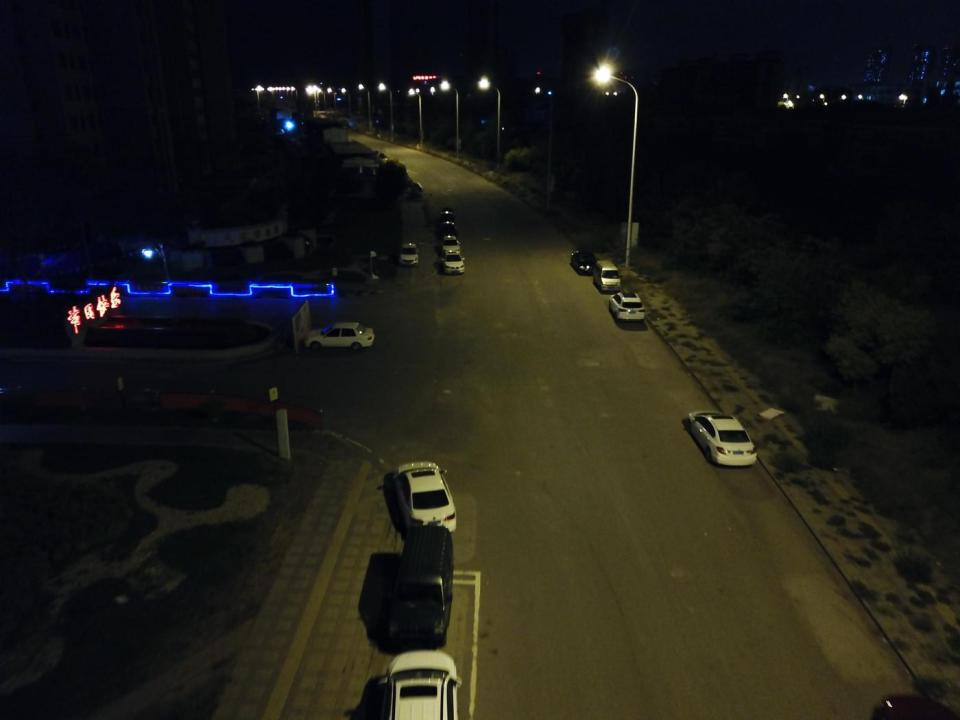car: (376, 649, 461, 720), (394, 461, 458, 535), (687, 411, 758, 467), (303, 321, 374, 351), (608, 292, 646, 322), (571, 250, 600, 275), (442, 251, 466, 274), (399, 242, 419, 267), (441, 236, 461, 255), (441, 221, 457, 237), (441, 207, 455, 224)
van: (388, 525, 453, 648), (593, 260, 621, 292)
